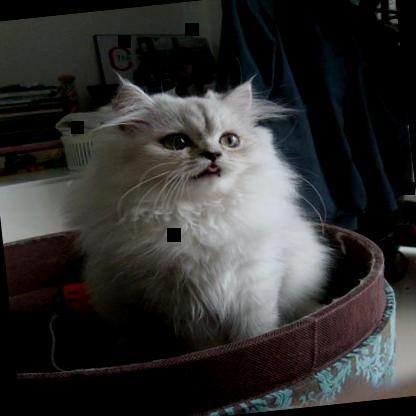cat: (54, 61, 331, 357)
